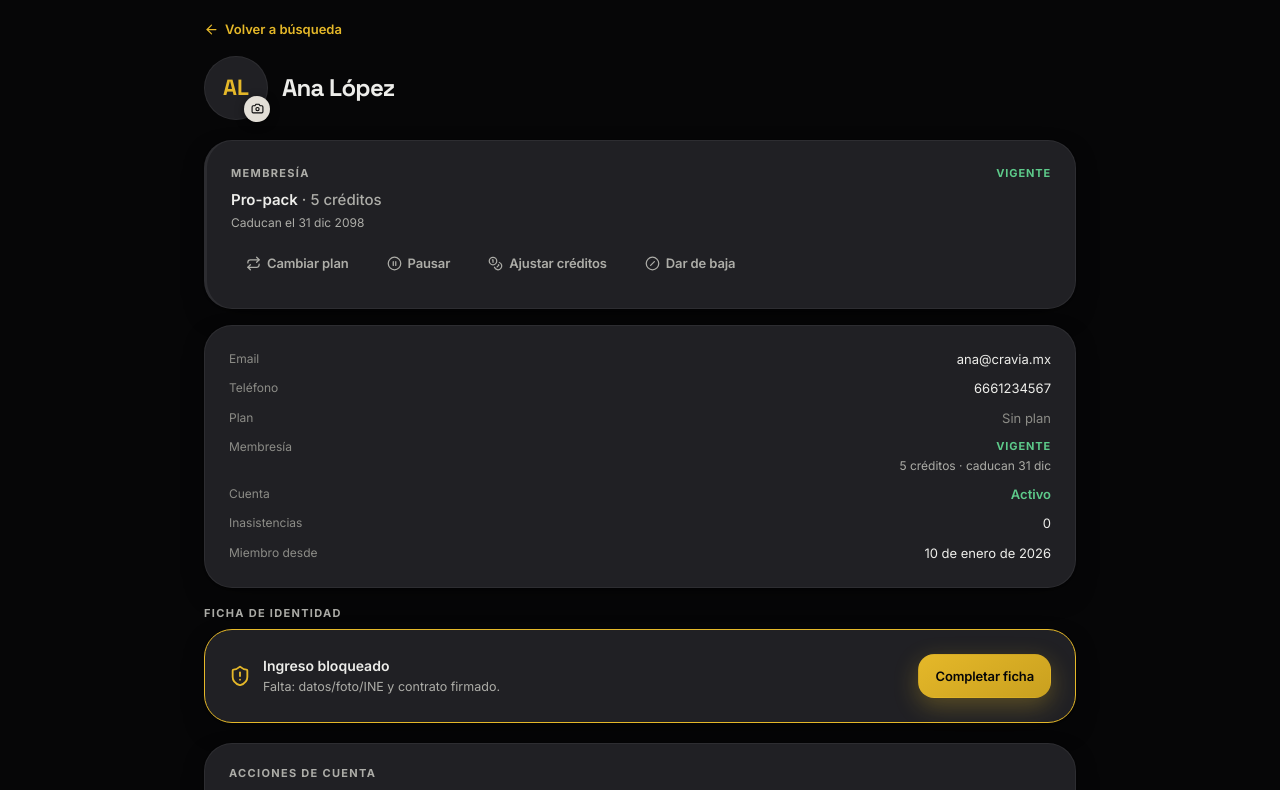
Test: PerfilMiembroRecepcion · gestión front-desk › tarjeta de membresía › "Ajustar créditos" abre el modal con el saldo actual
The width and height of the screenshot is (1280, 790).
What coordinates should you click on to do the following:
click the button "Ajustar créditos"
I would click on:
 (548, 264)
Its box is [473,244,622,284].
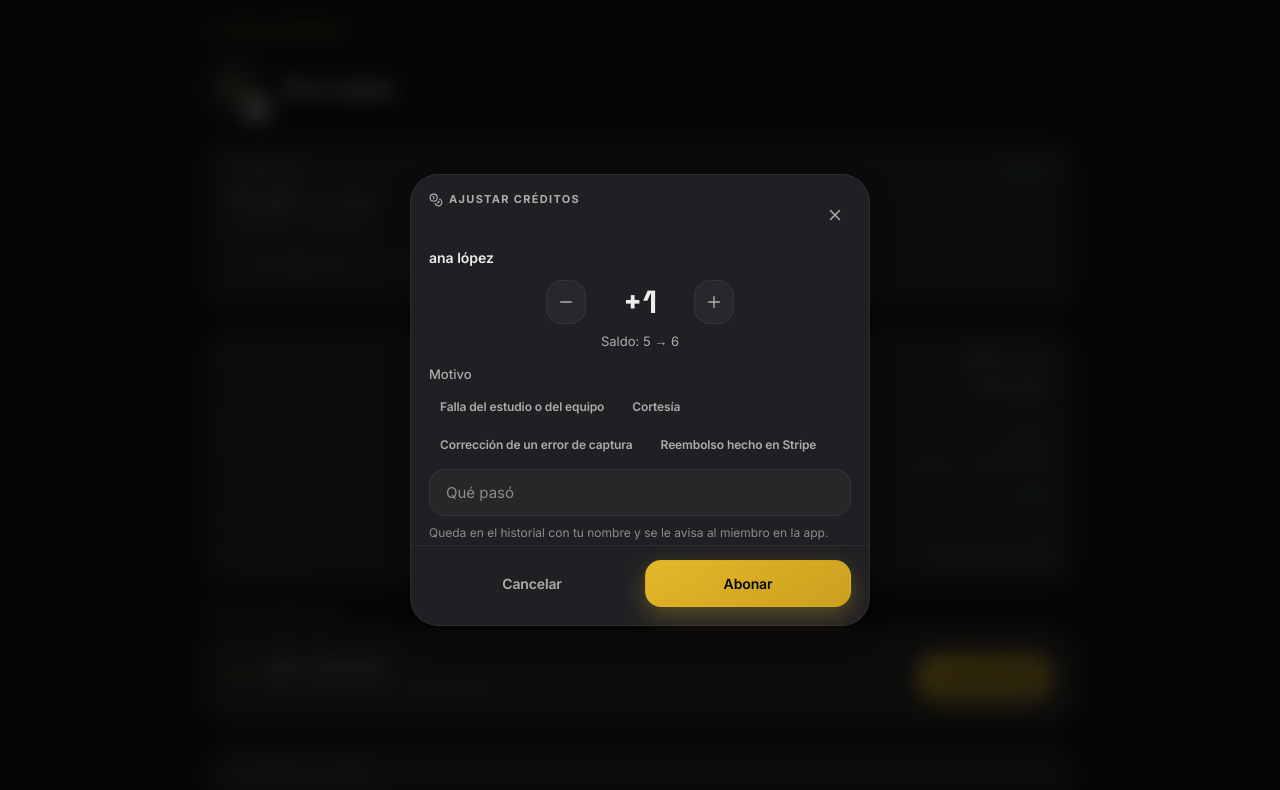
Expected: the text "Saldo: 5 → 6" is shown, [601,333,679,349]
